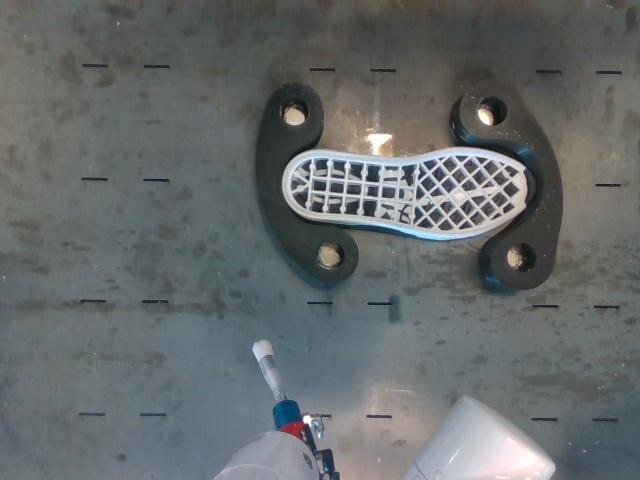shoes: (283, 148, 536, 235)
